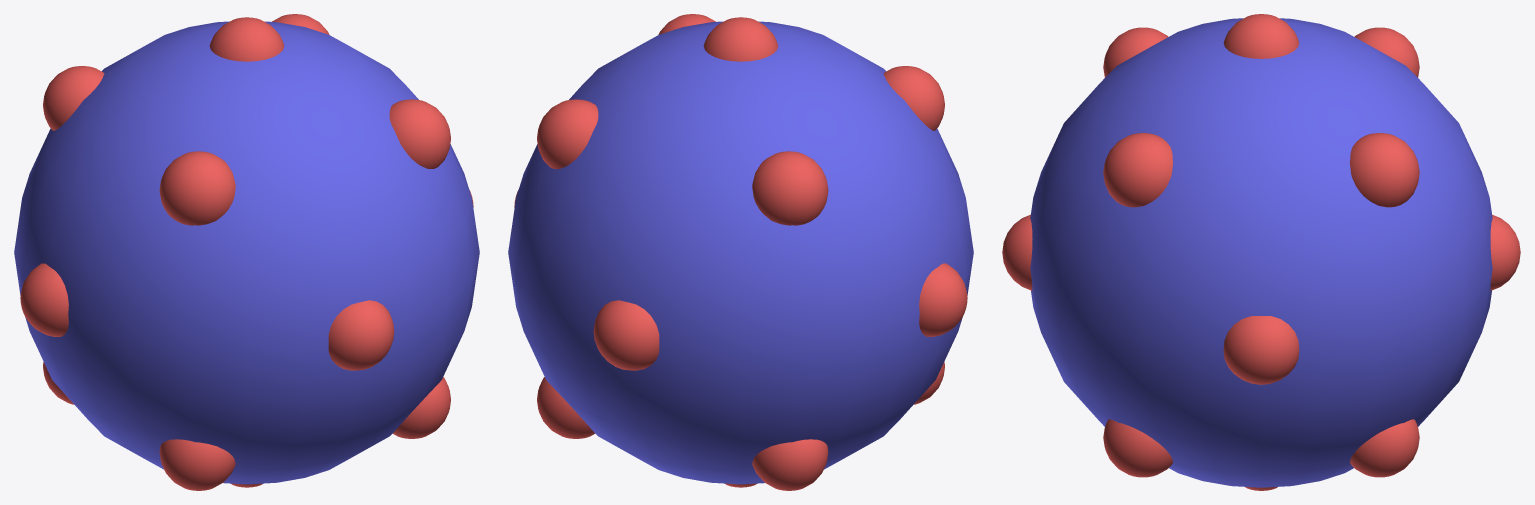
File: ball obstacle.fbx
3 renders of one model, left to right at view 1: azimuth 30°, elevation 25°; view 2: azimuth 150°, elevation 25°; view 3: azimuth 270°, elevation 25°, orthographic.
Parts seen in each view (by area): view 1: Sphere; view 2: Sphere; view 3: Sphere.
Boxes of the visible parts, x1,y1,x2,y2 form: Sphere: (14, 14, 479, 490); Sphere: (508, 14, 973, 490); Sphere: (1002, 14, 1520, 490).
Size of the model in its own units: 355 by 355 by 355.
